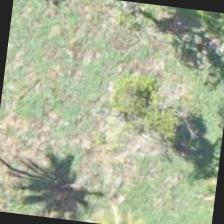Kelapa_Sawit: (78, 0, 175, 65)
